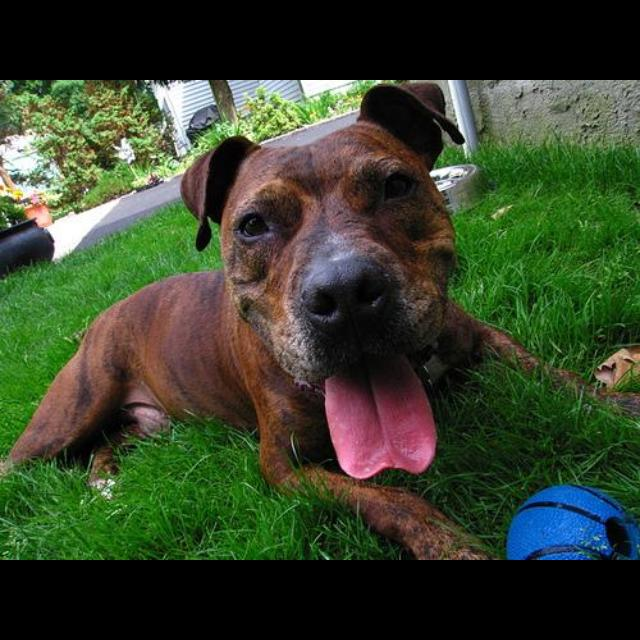amstaff: (1, 81, 639, 559)
